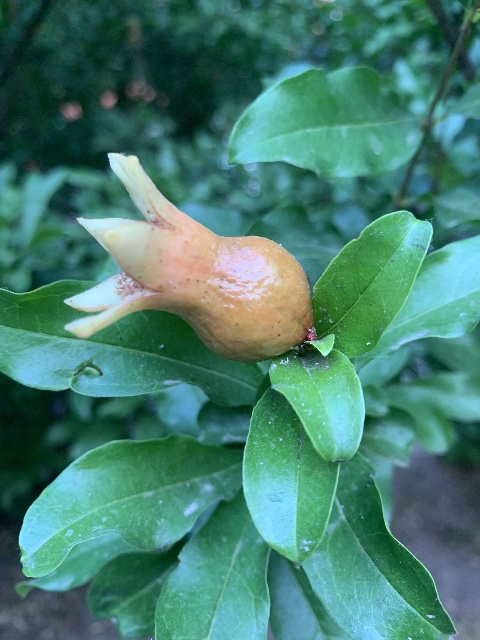early-fruit: (65, 153, 310, 362)
